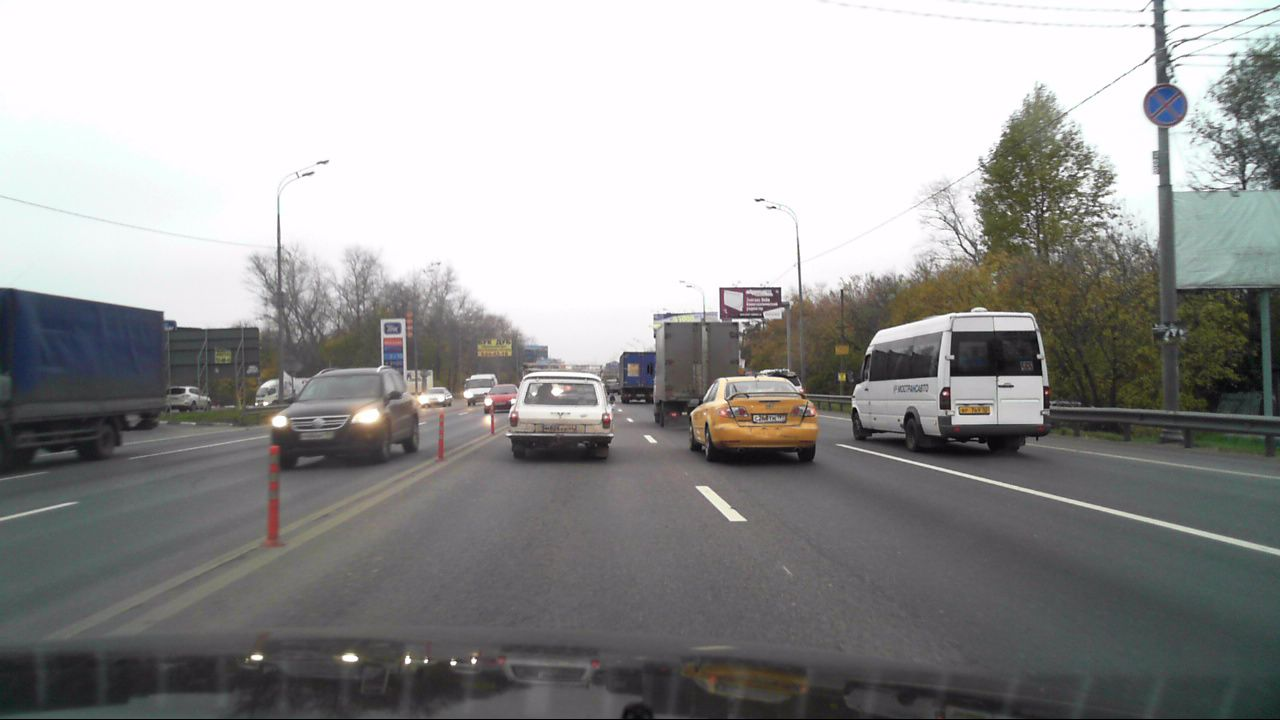No Parking: (1142, 82, 1187, 126)
